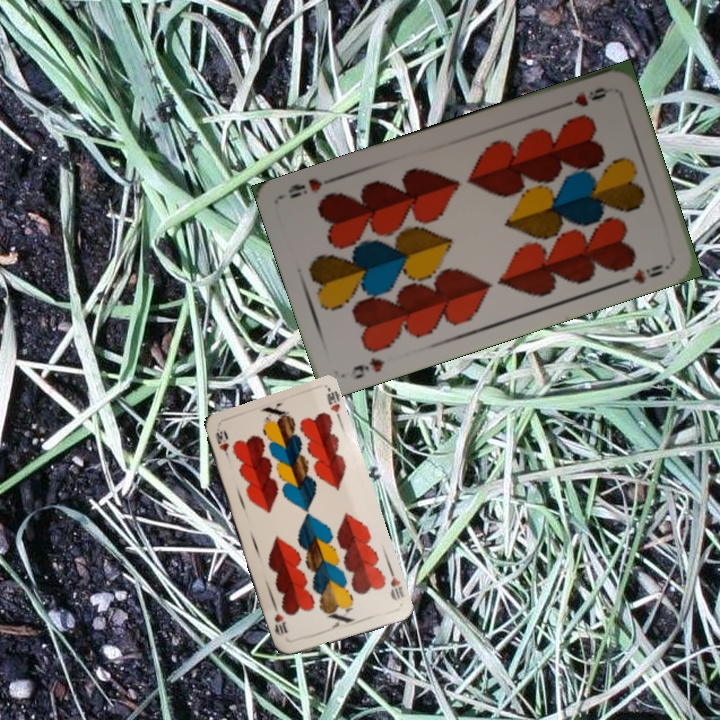H10: (212, 427, 234, 465), (386, 566, 406, 603)
H9: (556, 83, 614, 111), (343, 354, 387, 382)
